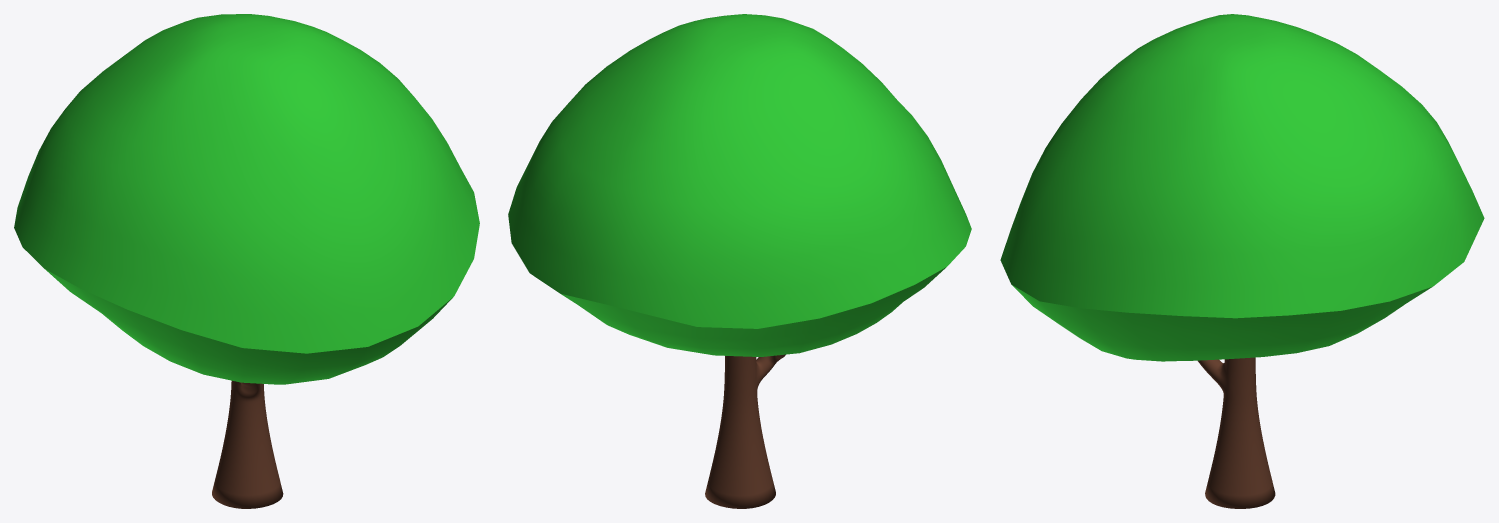
The model's file is tree_02.fbx.
The picture shows the model from 3 angles, left to right: view 1: azimuth 30°, elevation 25°; view 2: azimuth 150°, elevation 25°; view 3: azimuth 270°, elevation 25°; orthographic projection.
Parts seen in each view (by area): view 1: RetopoFlow.001; view 2: RetopoFlow.001; view 3: RetopoFlow.001.
Boxes of the visible parts, box(x1,y1,x2,y2) form: RetopoFlow.001: box(14, 14, 479, 508); RetopoFlow.001: box(508, 14, 971, 508); RetopoFlow.001: box(1000, 14, 1484, 508).
Size of the model in its own units: 591 by 636 by 605.
